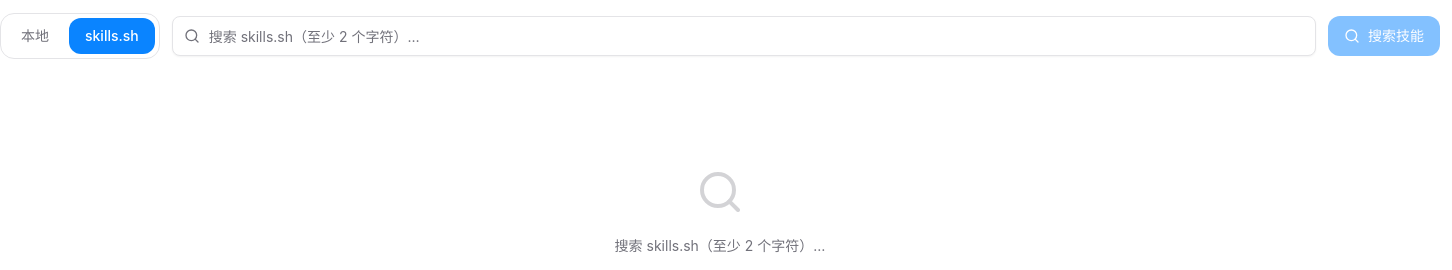
Scenario: shows search errors, retries and reports empty results
The width and height of the screenshot is (1452, 270).
Type "demo" into the field labelled "搜索 skills.sh". click: (744, 36)
box: left=172, top=16, right=1316, bottom=56
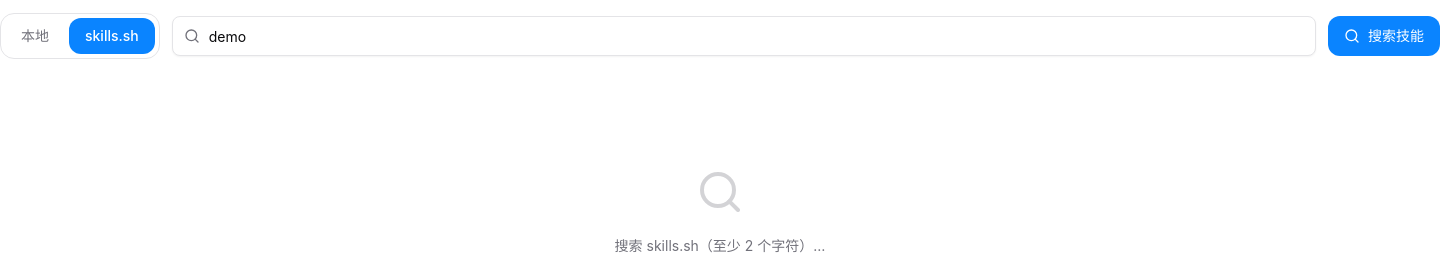
Click the button "搜索技能". click: (1384, 36)
box: left=1328, top=16, right=1440, bottom=56
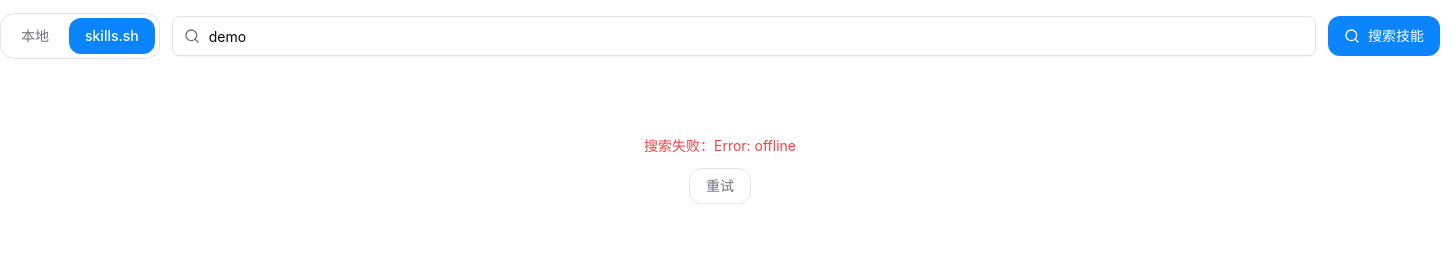
Now the message shows "offline", box left=714, top=137, right=796, bottom=154
Click the button "重试". click: (720, 186)
box: left=689, top=168, right=751, bottom=204
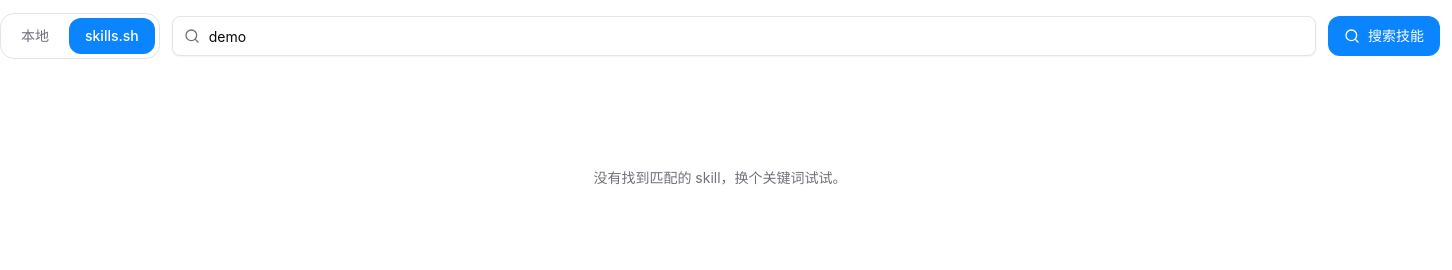
Now the text "没有找到匹配的 skill，换个关键词试试。" is shown, box left=593, top=169, right=847, bottom=186
